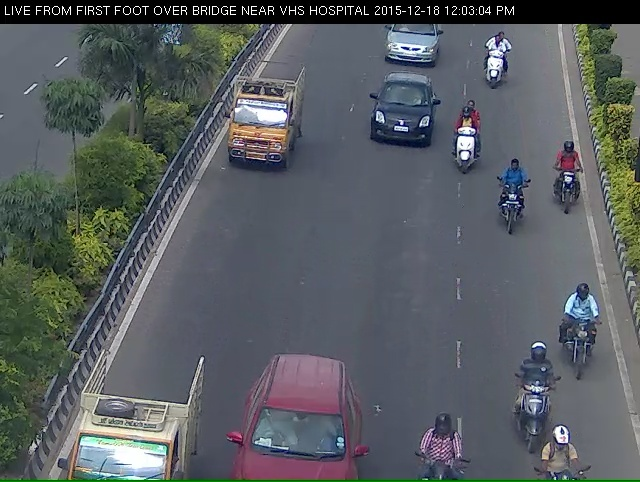Car: (46, 379, 198, 473), (226, 393, 363, 474), (216, 80, 291, 172), (369, 84, 431, 152), (376, 25, 442, 69)
Person: (507, 365, 554, 469), (565, 296, 603, 392), (549, 153, 590, 229), (451, 104, 478, 190), (498, 166, 526, 247), (481, 30, 509, 95)
